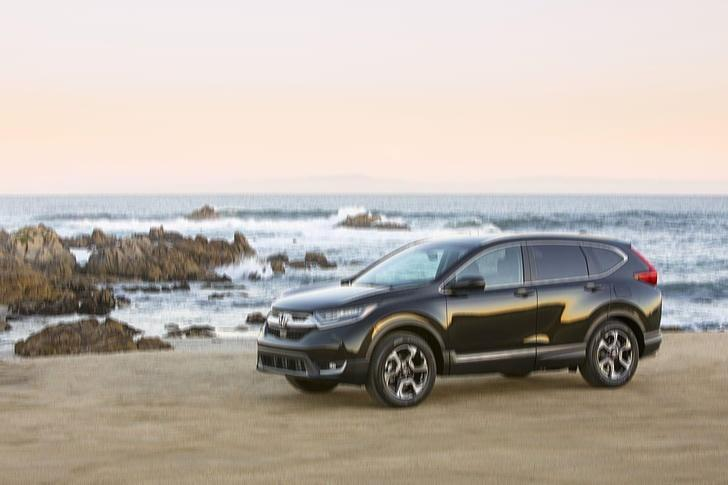Car hood: (268, 284, 415, 315)
Fender - -F-L-: (371, 282, 453, 376)
Fender - -R-L-: (609, 275, 664, 327)
Front bumper: (239, 327, 377, 391)
Headlight - -L-: (309, 297, 376, 331)
Passenger-s door - -F-L-: (452, 234, 537, 361)
Passenger-s door - -R-L-: (536, 237, 614, 352)
Rear bumper: (635, 319, 673, 361)
Rear light - -L-: (626, 244, 663, 291)
Side bumper - -L-: (437, 341, 593, 380)
Side mirror - -L-: (450, 270, 488, 296)
